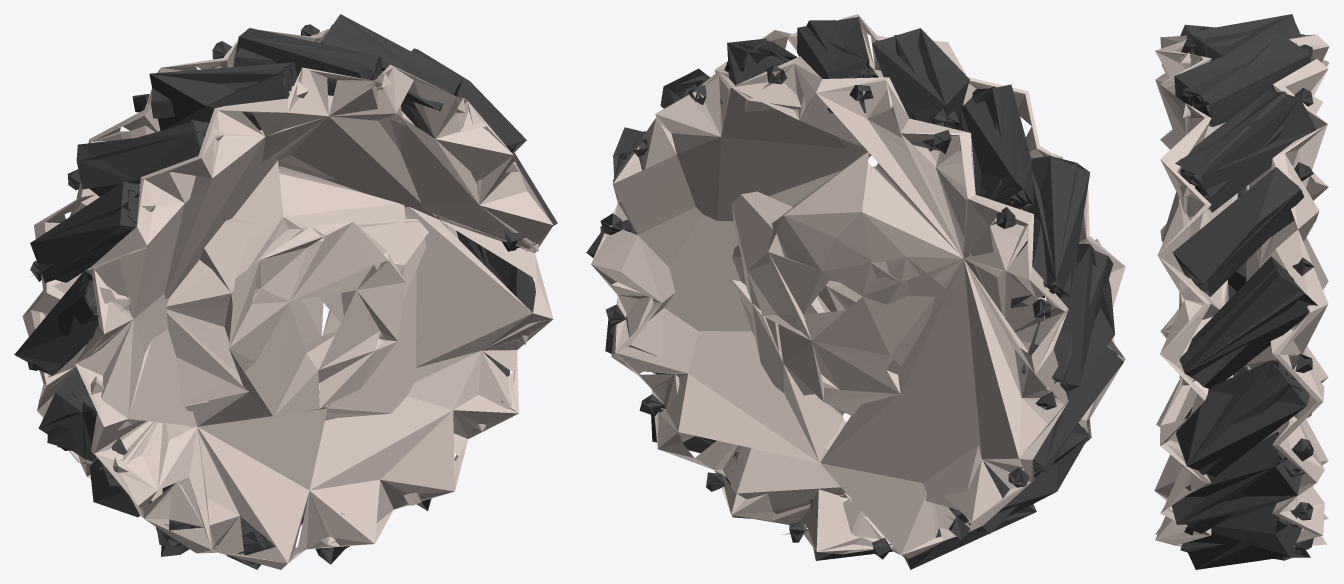
The model's file is wheel_right10.dae.
3 views of the same model, side by side, from view 1: azimuth 30°, elevation 25°; view 2: azimuth 150°, elevation 25°; view 3: azimuth 270°, elevation 25° (orthographic). The views are drawn at different scales.
Visible parts, largest first — view 1: wheel_rf; view 2: wheel_rf; view 3: wheel_rf.
Boxes of the visible parts, x1,y1,x2,y2 form: wheel_rf: [14, 14, 557, 569]; wheel_rf: [586, 14, 1125, 569]; wheel_rf: [1154, 14, 1329, 569].
Size of the model in its own units: 0.1529 by 0.0485 by 0.1525.
